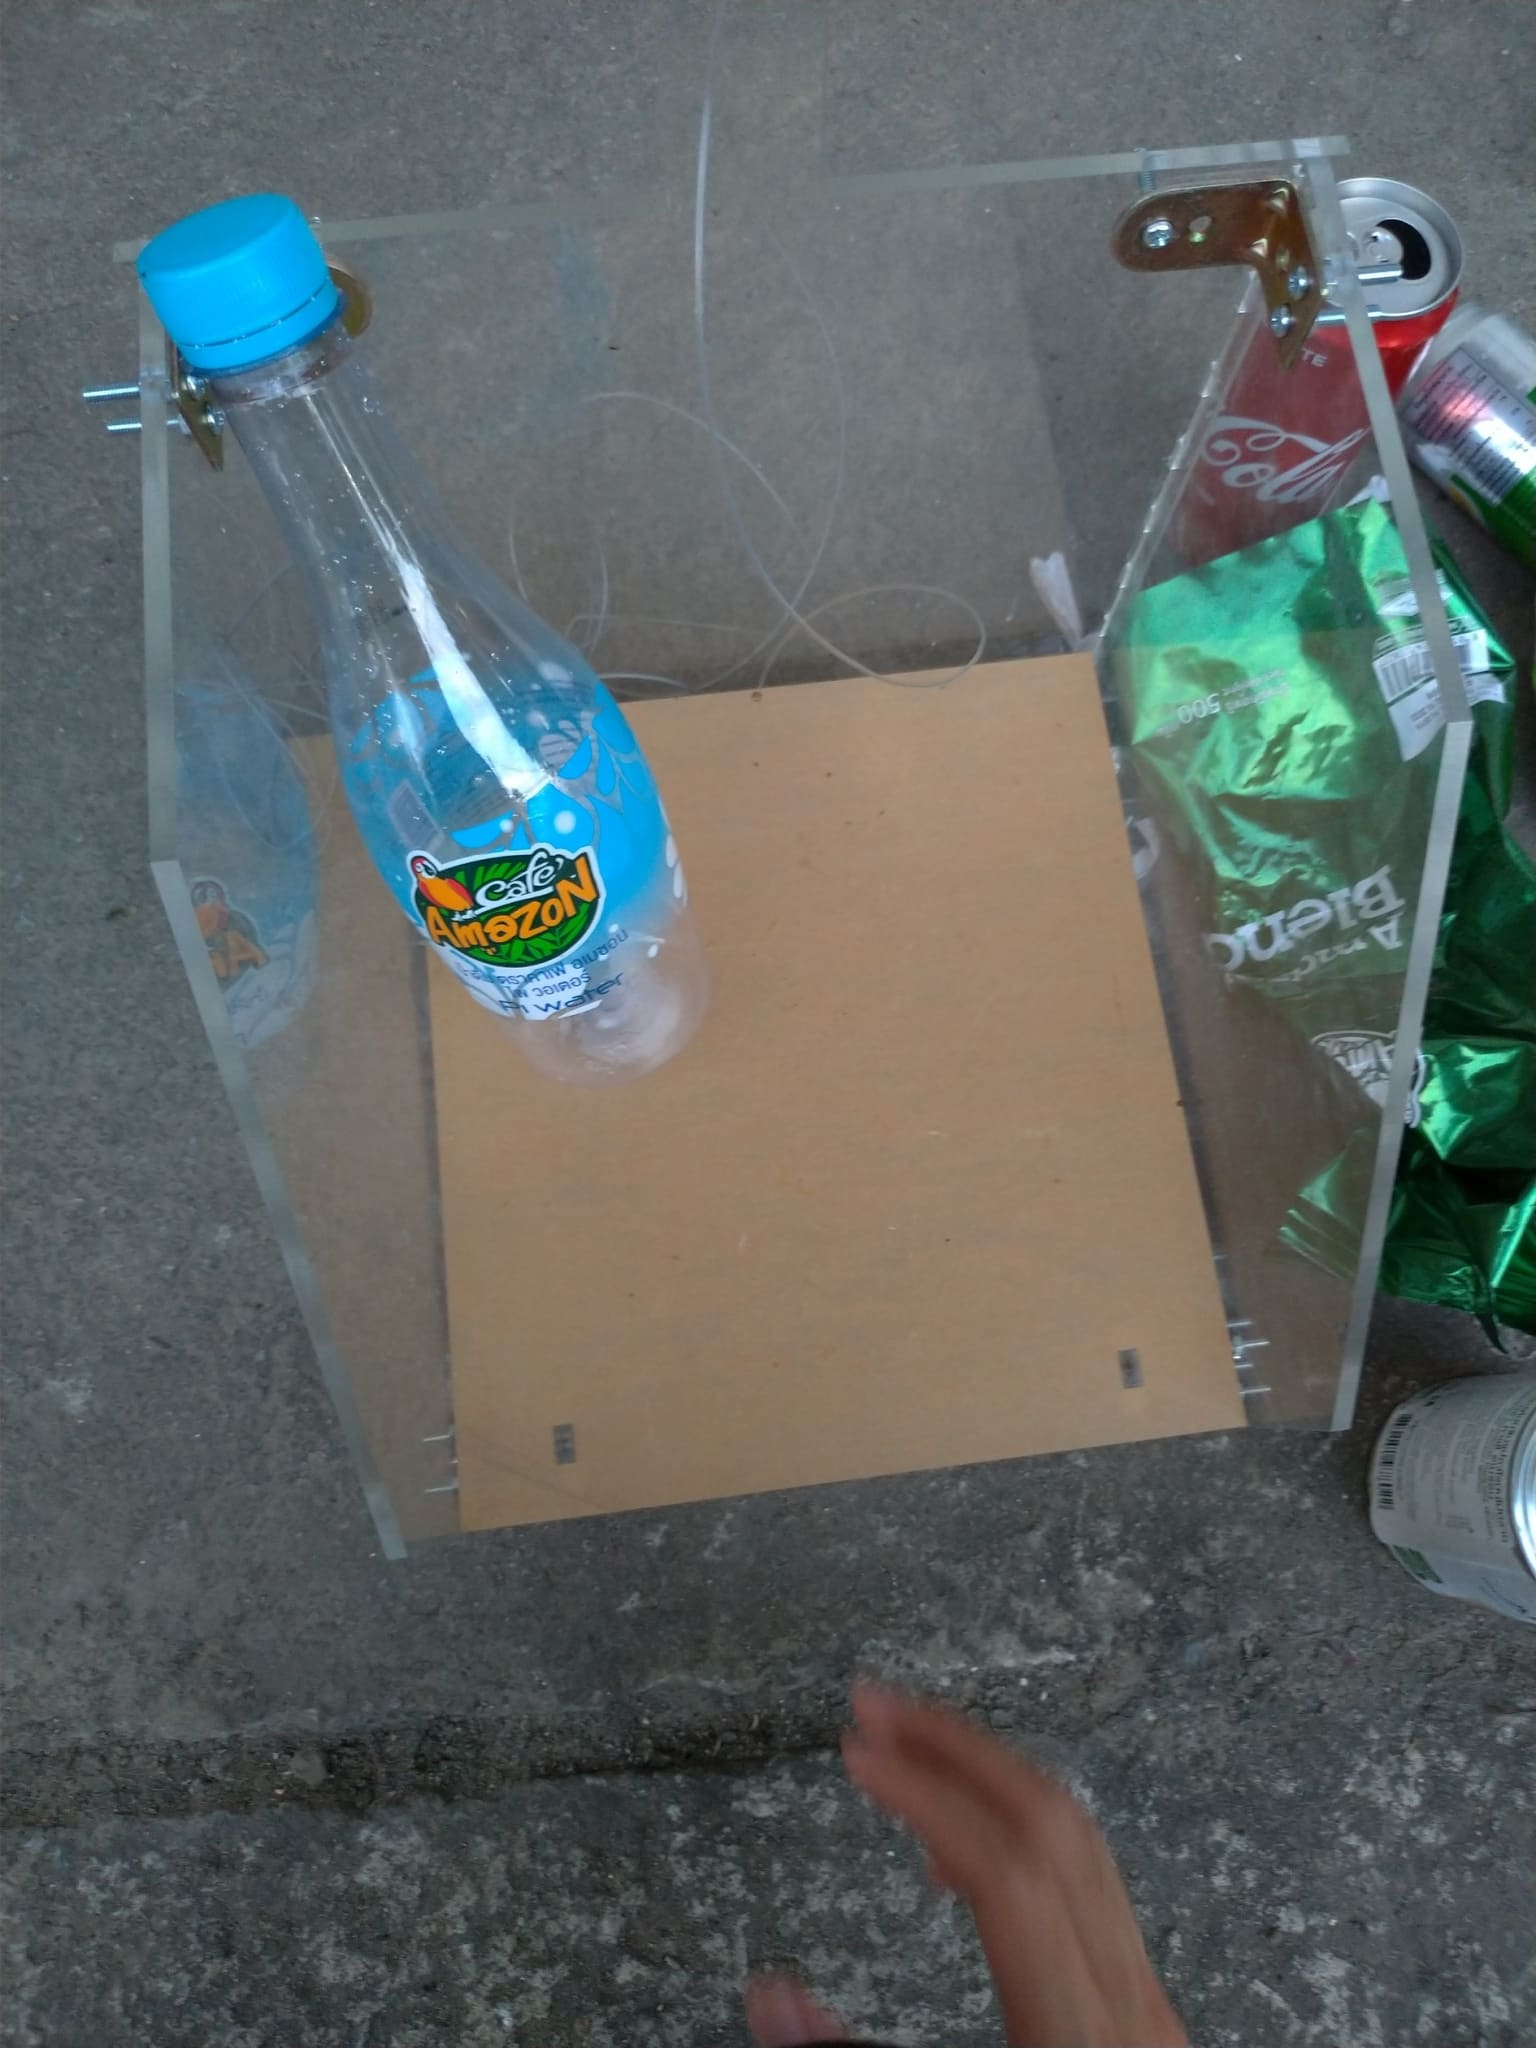AlCan: (1173, 174, 1457, 571), (1373, 1377, 1536, 1617), (1405, 310, 1536, 558)
Others: (1112, 526, 1536, 1305)
PlasticBottle: (144, 203, 718, 1080)
